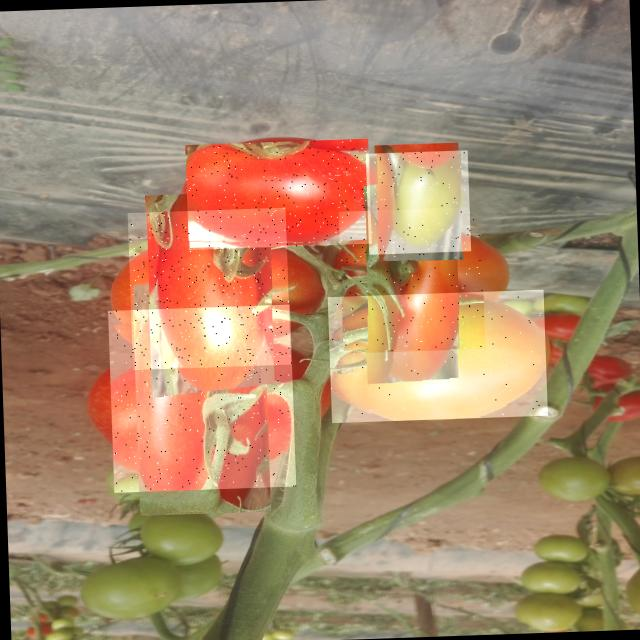Ripe Tomato: (107, 304, 296, 492), (127, 208, 290, 370), (185, 138, 372, 250)
Unripe Tomato: (328, 290, 548, 422), (338, 206, 484, 354), (366, 150, 470, 254)
